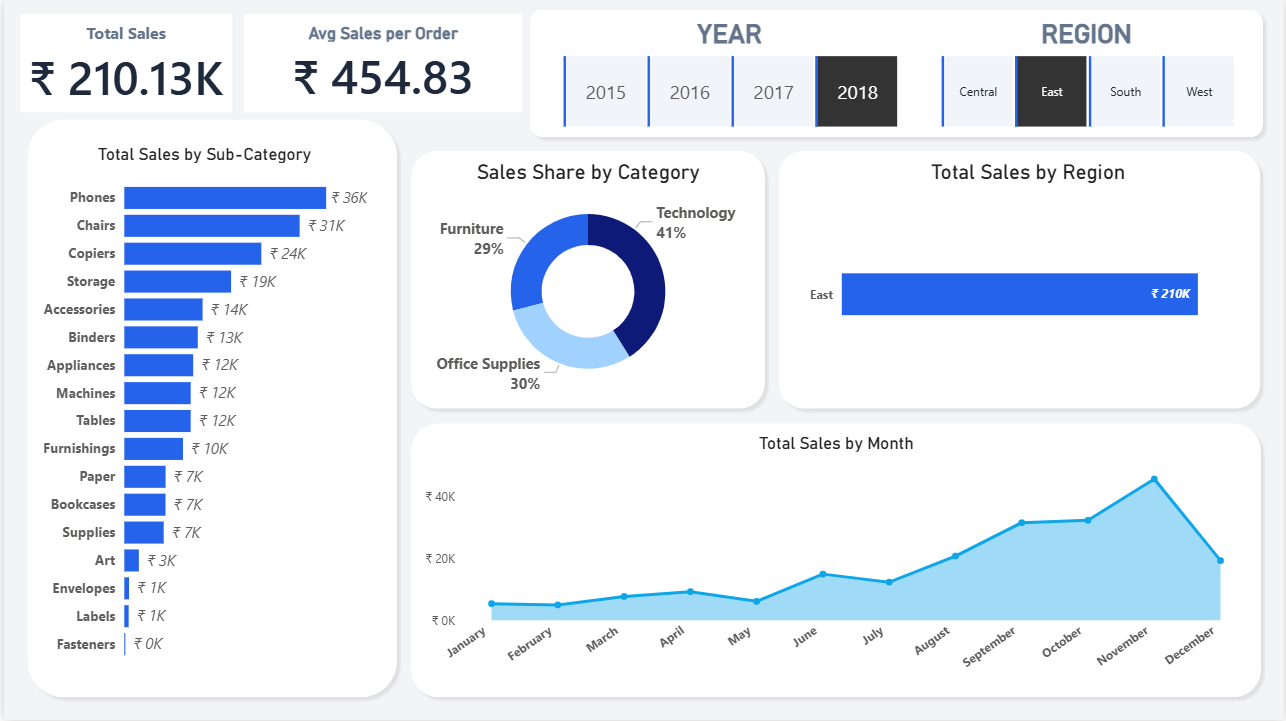

Layout of this report page (visuals, bound fields, positions):
{"tool":"powerbi","page":{"name":"Page 1","canvas":[1280,720],"ordinal":0},"visuals":[{"type":"shape","box":[518.2,2.7,747.3,141.8],"z":0},{"type":"shape","box":[400,416,864,288],"z":1000},{"type":"shape","box":[400,144,368,272],"z":2000},{"type":"shape","box":[768,144,496,272],"z":3000},{"type":"shape","box":[16,112,384,592],"z":4000},{"type":"card","title":"Total Sales","fields":{"Values":["train.Total Sales"]},"box":[16.7,13.3,211.7,98.3],"z":5000},{"type":"card","title":"Avg Sales per Order","fields":{"Values":["train.Avg Sales per Order"]},"box":[240,13.3,278.3,98.3],"z":6000},{"type":"areaChart","fields":{"Category":["train.Order Date.Variation.Date Hierarchy.Month"],"Y":["train.Total Sales"]},"box":[416,432,832,256],"z":7000},{"type":"donutChart","title":"Sales Share by Category","fields":{"Category":["train.Category"],"Y":["train.Total Sales"]},"box":[416,160,336,240],"z":8000},{"type":"barChart","fields":{"Category":["train.Sub-Category"],"Y":["train.Total Sales"]},"box":[32,144,336,528],"z":9000},{"type":"clusteredBarChart","fields":{"Category":["train.Region"],"Y":["train.Total Sales"]},"box":[800,160,448,240],"z":10000},{"type":"slicer","title":"YEAR","fields":{"Values":["train.Order Date.Variation.Date Hierarchy.Year"]},"box":[538.2,13.6,373.6,120],"z":11000},{"type":"slicer","title":"REGION","fields":{"Values":["train.Region"]},"box":[911.8,13.6,342.7,120],"z":12000}]}

Visuals, with their boxes in screenshot pixels (x1, y1, x2, y2), scaled from the page's 1280x720 canvas onto the 1286x721 screenshot:
shape: box(521, 3, 1271, 145)
shape: box(402, 417, 1270, 705)
shape: box(402, 144, 772, 417)
shape: box(772, 144, 1270, 417)
shape: box(16, 112, 402, 705)
"Total Sales" card: box(17, 13, 229, 112)
"Avg Sales per Order" card: box(241, 13, 521, 112)
areaChart - train.Order Date.Variation.Date Hierarchy.Month x train.Total Sales: box(418, 433, 1254, 689)
"Sales Share by Category" donutChart: box(418, 160, 756, 401)
barChart - train.Sub-Category x train.Total Sales: box(32, 144, 370, 673)
clusteredBarChart - train.Region x train.Total Sales: box(804, 160, 1254, 401)
"YEAR" slicer: box(541, 14, 916, 134)
"REGION" slicer: box(916, 14, 1260, 134)
